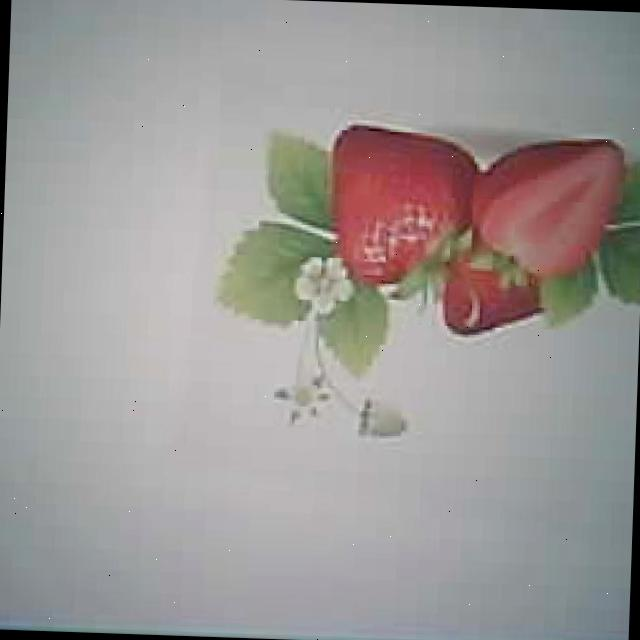strawberry: (328, 126, 477, 290)
